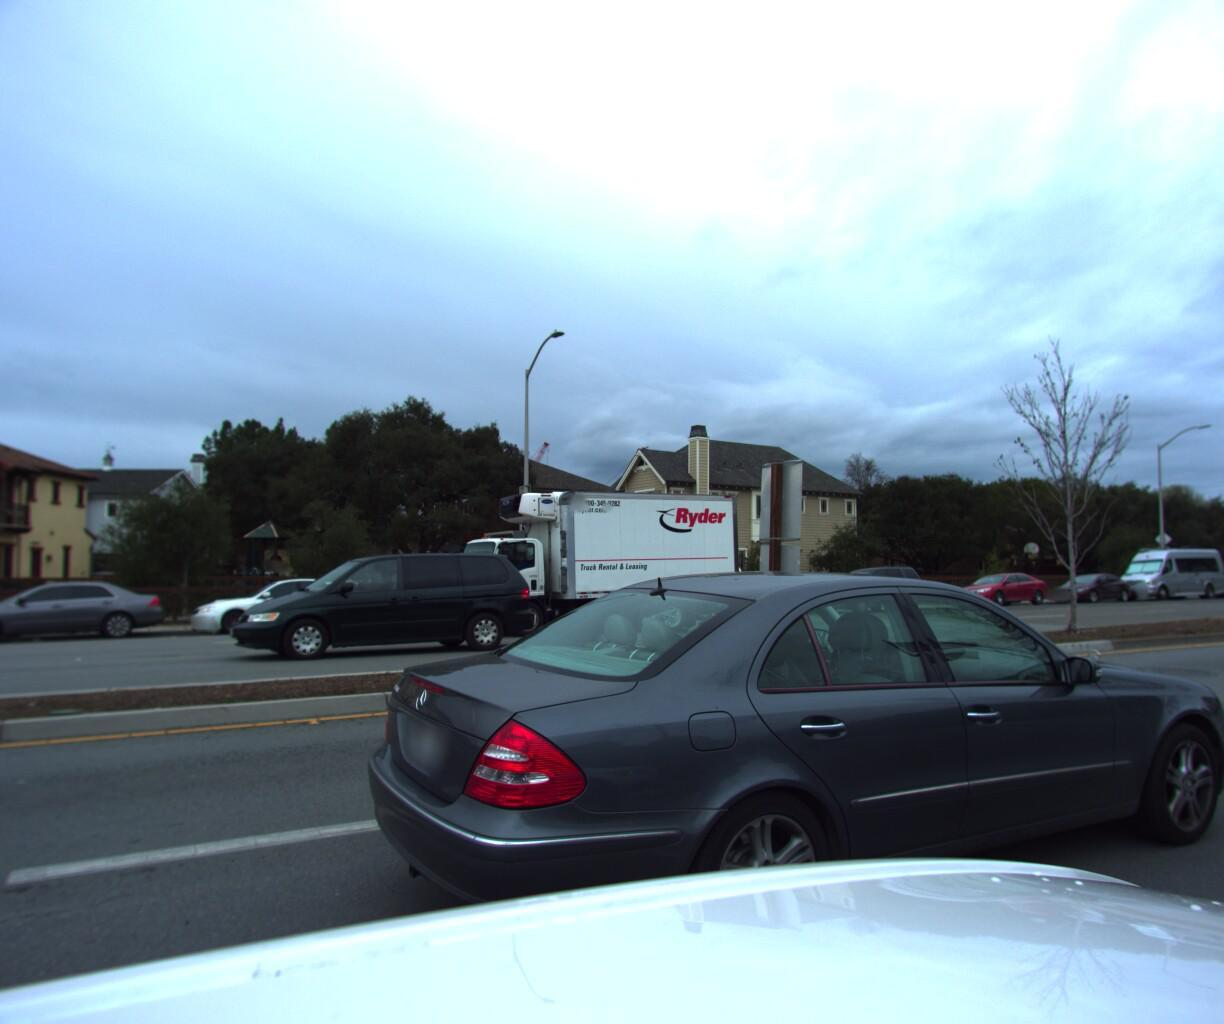car: (365, 561, 1224, 1024), (234, 547, 550, 662), (185, 571, 378, 639), (644, 554, 810, 616), (1098, 537, 1224, 597), (804, 559, 935, 610), (939, 566, 1053, 604), (1043, 567, 1139, 600), (1201, 565, 1224, 594)
truck: (432, 476, 757, 640)
